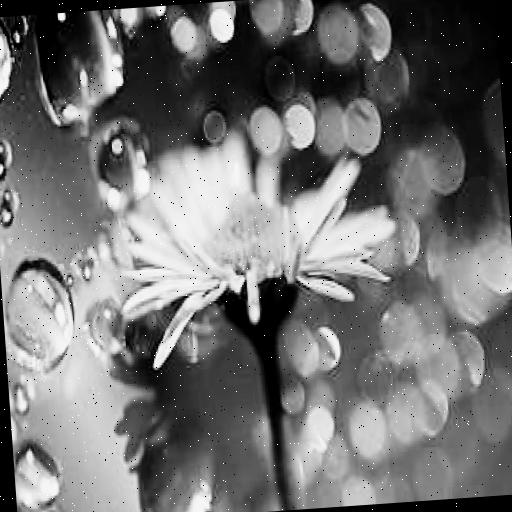daisy: (118, 132, 380, 334)
